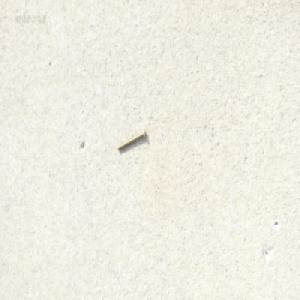Bolt: (116, 128, 145, 151)
